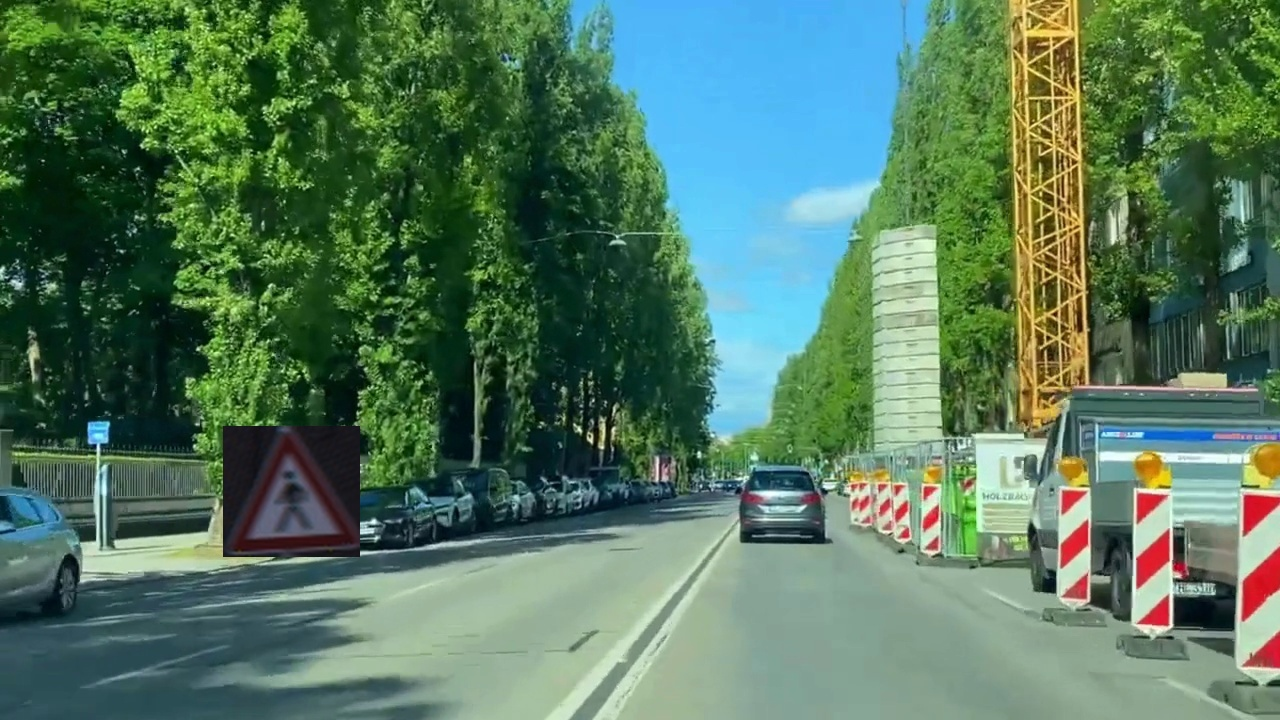Pedestrians: (223, 426, 360, 557)
